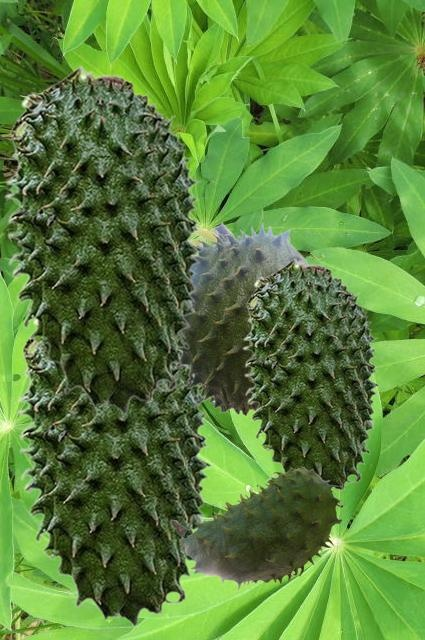guyabano: (4, 64, 203, 414), (16, 321, 212, 626), (242, 257, 379, 492), (175, 220, 308, 416), (170, 467, 342, 590)
